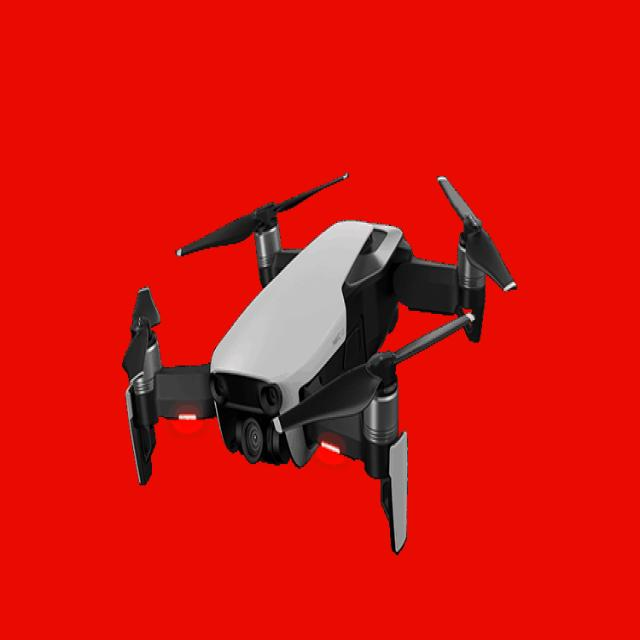drone: (112, 161, 526, 543)
